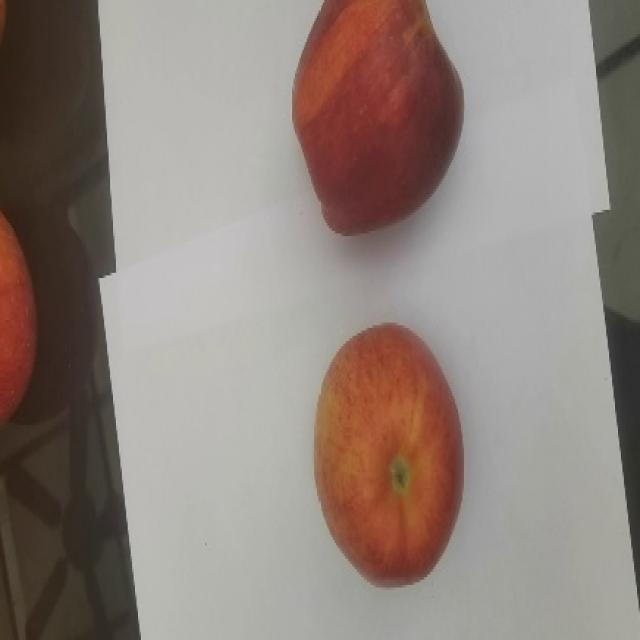Apple: (290, 0, 464, 236), (312, 321, 464, 587), (0, 209, 38, 423)
